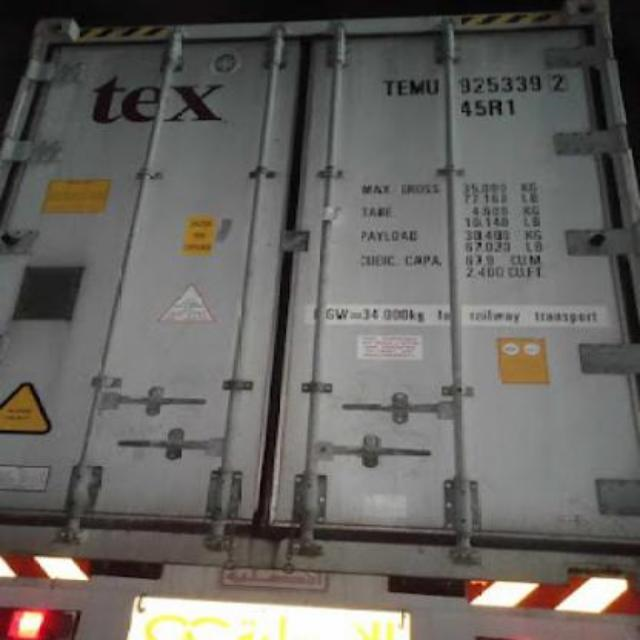2: (470, 74, 486, 96), (550, 73, 566, 91)
3: (516, 74, 530, 95), (501, 73, 514, 93)
5: (486, 74, 499, 95)
9: (526, 73, 546, 93), (456, 76, 472, 94)
E: (396, 76, 409, 96)
M: (408, 78, 426, 96)
T: (382, 78, 396, 98)
U: (426, 76, 439, 96)
